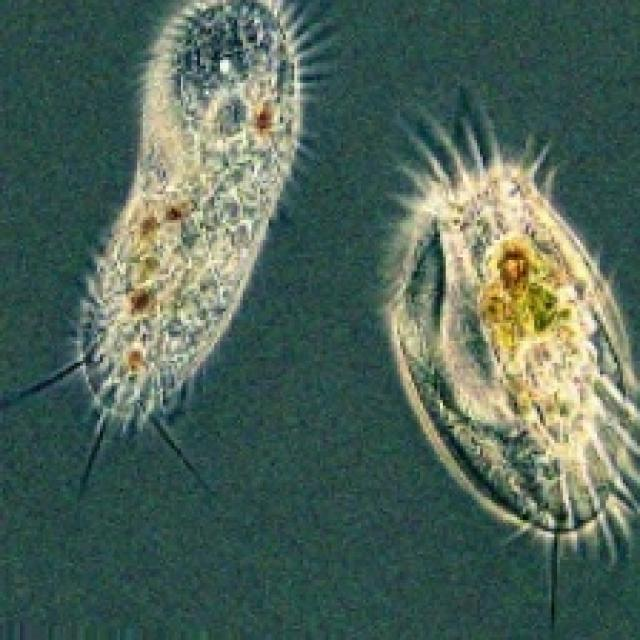Amoeba: (9, 0, 311, 529), (377, 91, 637, 572)
